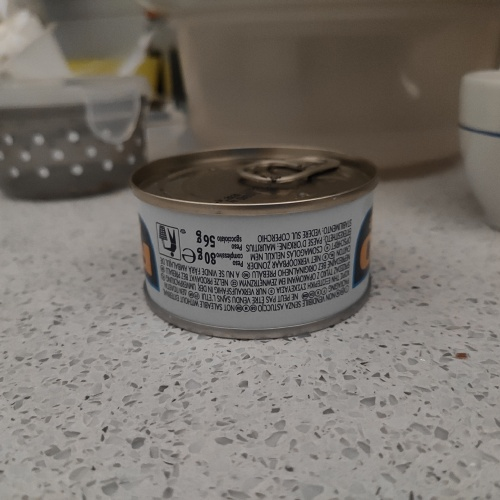tonno: (116, 133, 388, 347)
